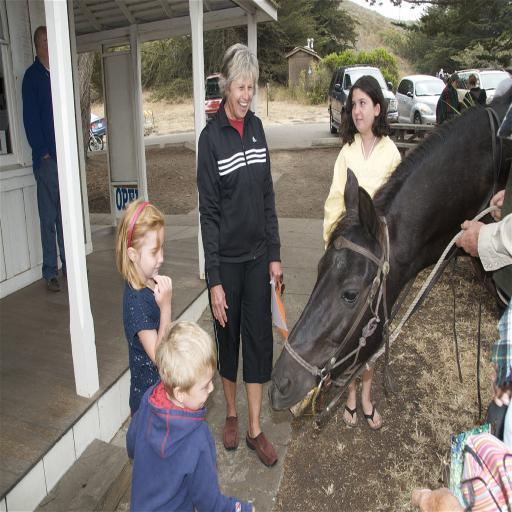horse: (267, 83, 511, 411)
